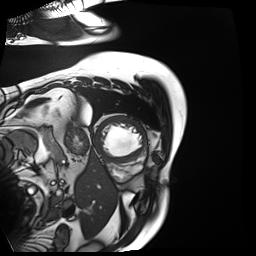ventricle: (103, 126, 141, 158)
